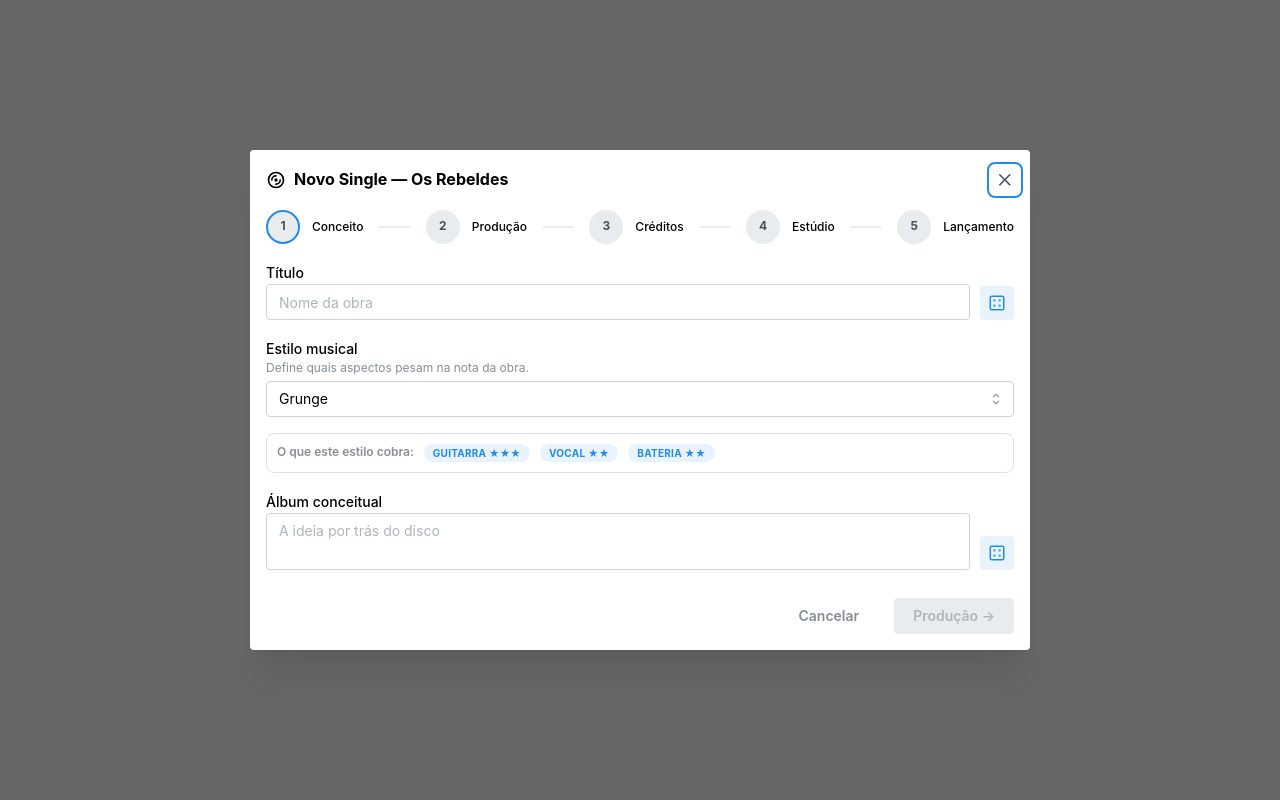
Test case: ReleaseCreationModal › walks the player from concept to the studio, gated by a title
The width and height of the screenshot is (1280, 800).
Expected: the text "O que este estilo cobra:" is shown, [277, 444, 414, 461]
Expected: the button "Produção →" is disabled, [894, 598, 1014, 634]
Type "Ruído Branco" into the field labelled "Título".
click(618, 302); type("Ruído Branco")  # box [266, 284, 970, 320]
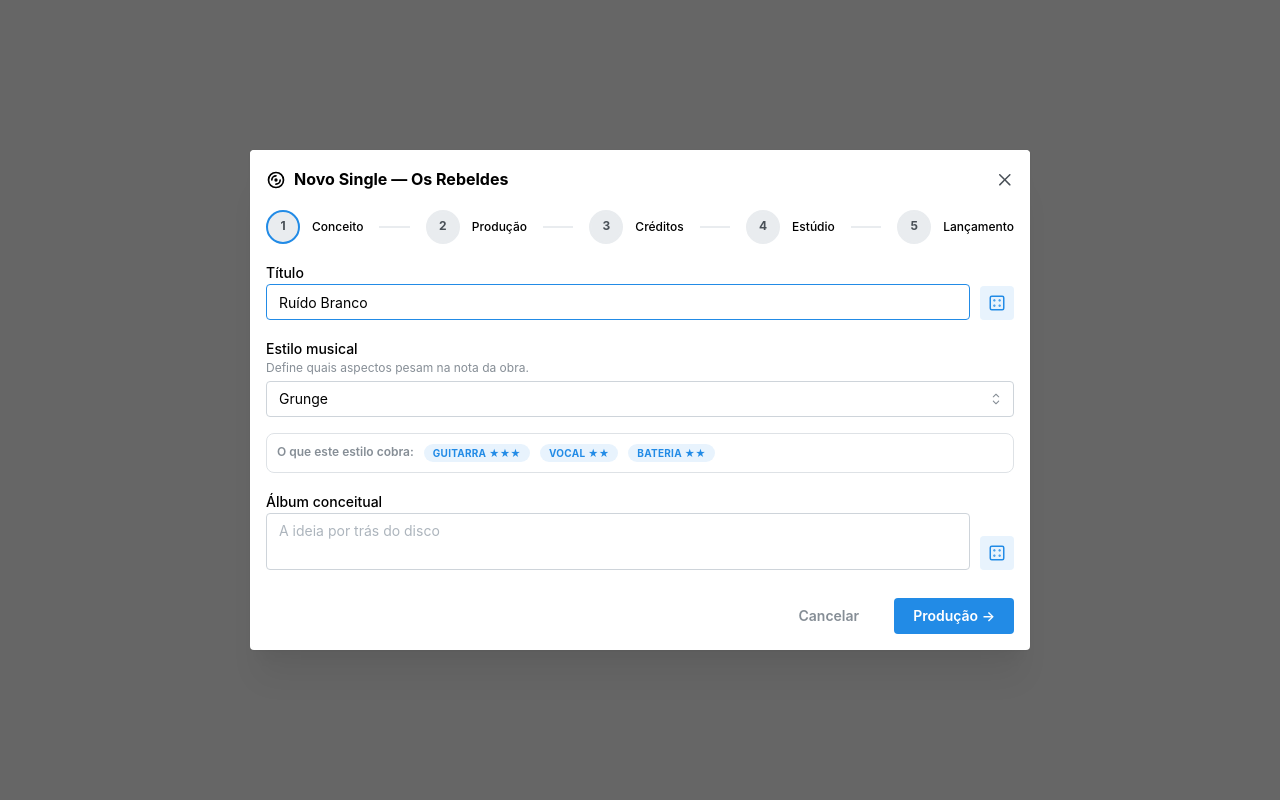
Click the button "Produção →".
click(954, 616)  # box [894, 598, 1014, 634]
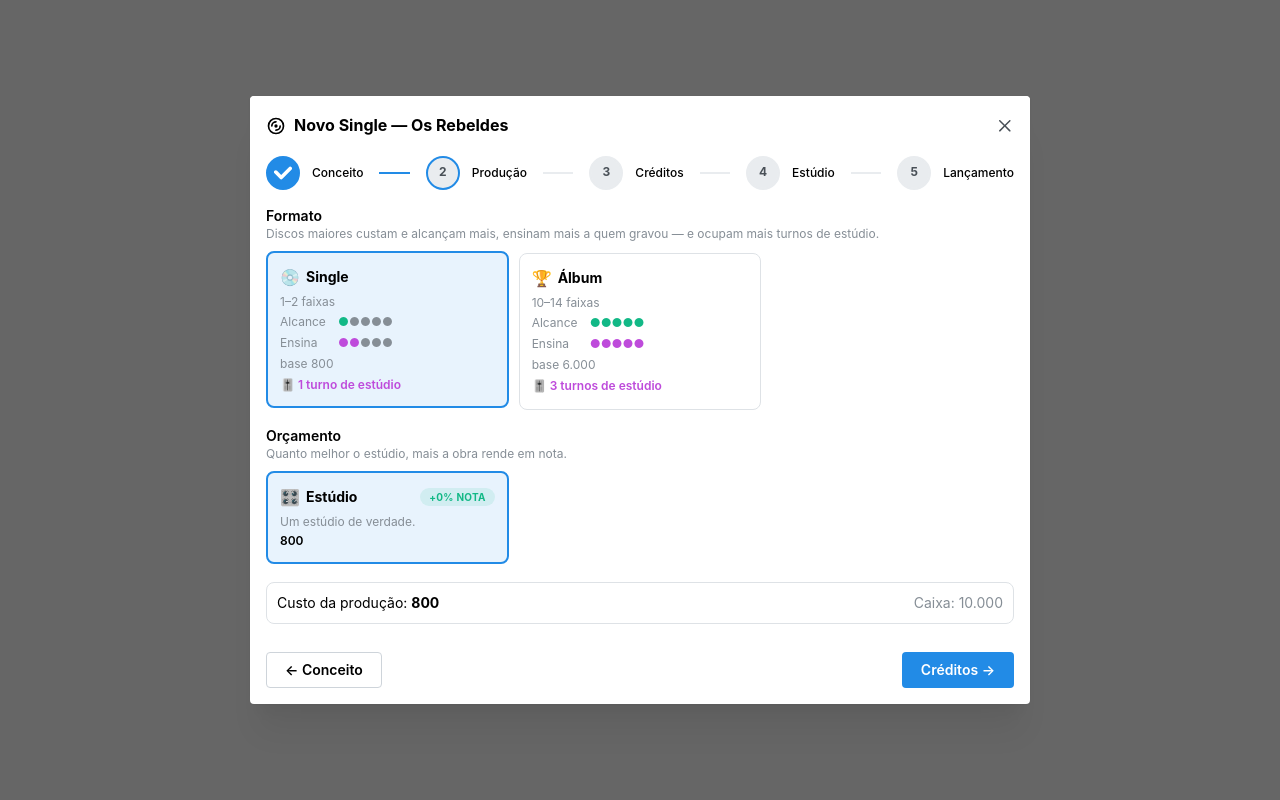
Expected: the text "Álbum" is shown, [558, 268, 602, 288]
Expected: the text "10–14 faixas" is shown, [532, 295, 600, 310]
Click the radio button labelled "Álbum".
click(640, 331)  # box [519, 253, 761, 410]
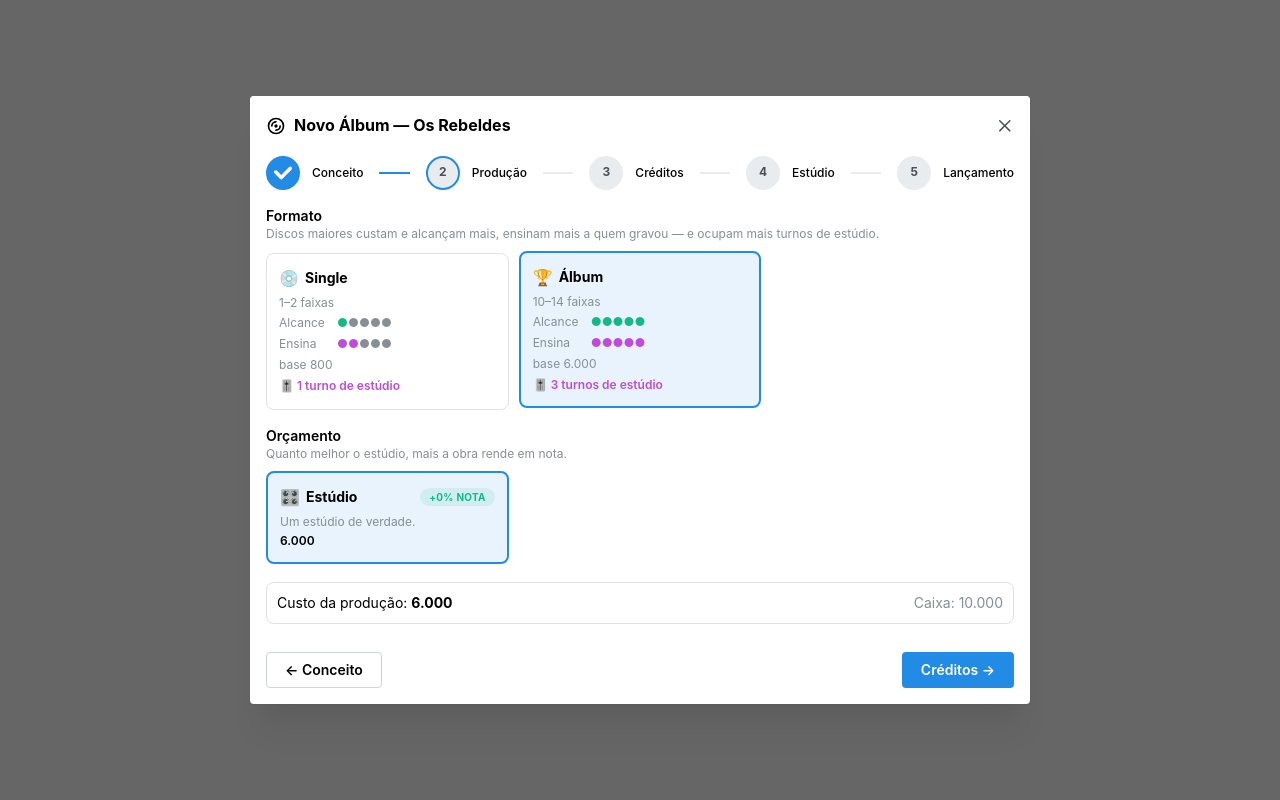
Expected: the text "Novo Álbum — Os Rebeldes" is shown, [294, 113, 511, 138]
Click the button "Créditos →".
click(958, 670)  # box [902, 652, 1014, 688]
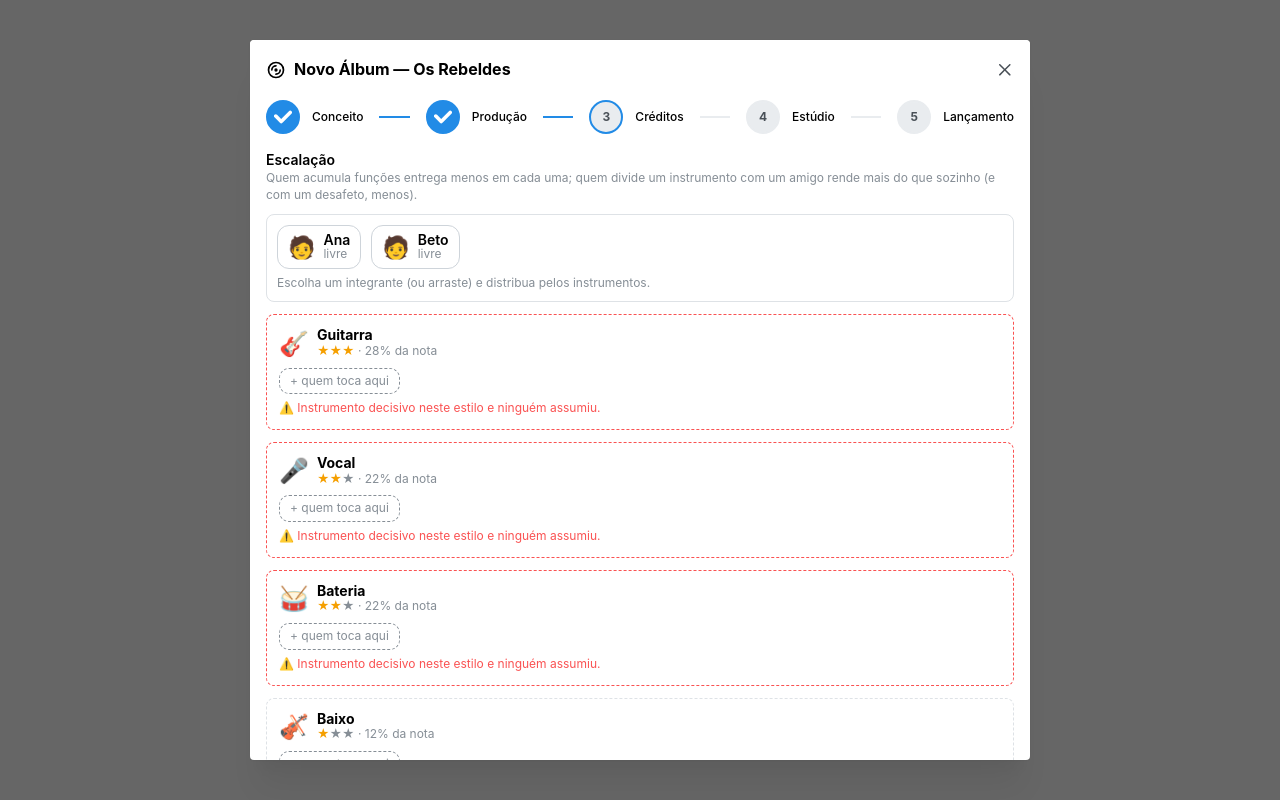
Expected: the text "Escalação" is shown, [266, 151, 335, 168]
Expected: the text "★★★ · 28% da nota" is shown, [317, 343, 437, 360]
